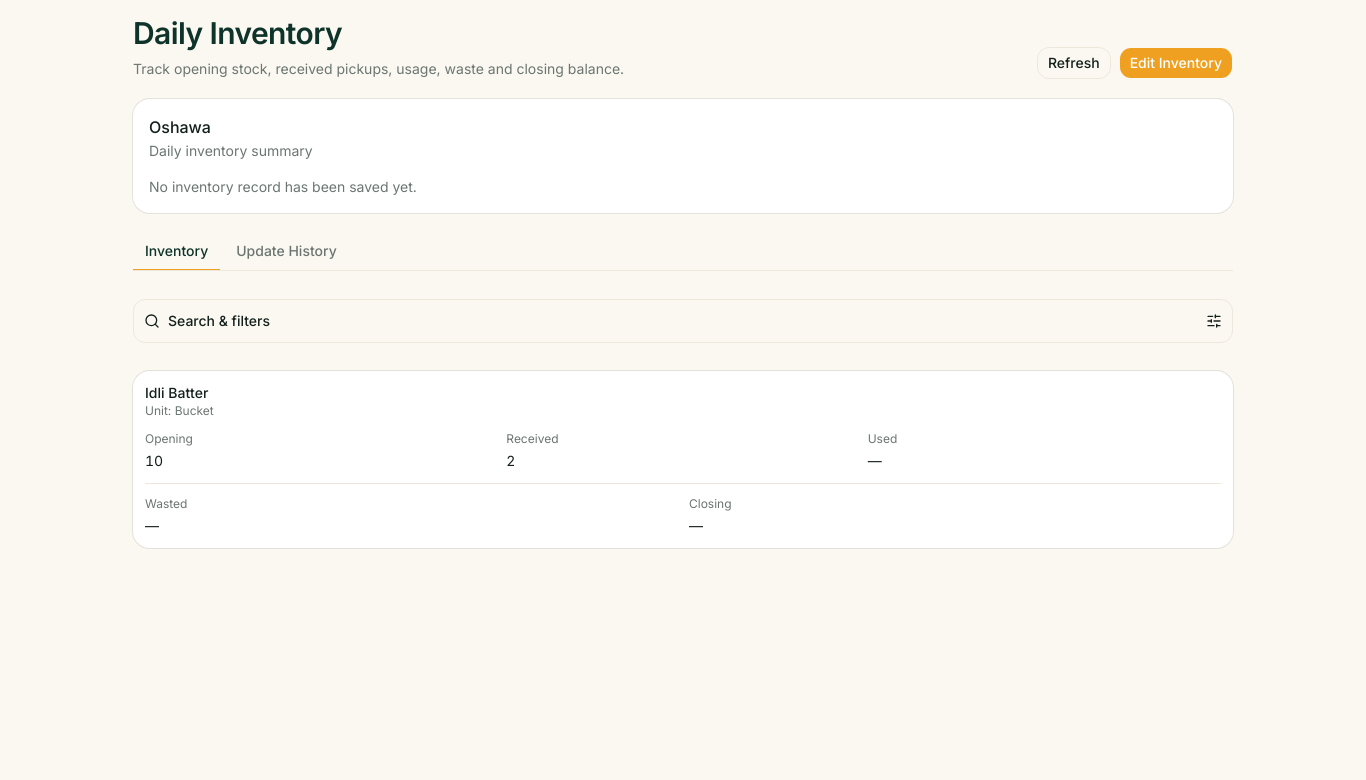
Test: tablet inventory uses cards and retains the bottom save controls
Check: the heading "Idli Batter" is shown, box [145,382,214,402]
Click the button "Edit Inventory" at (1176, 62), box [1119,46,1233,78]
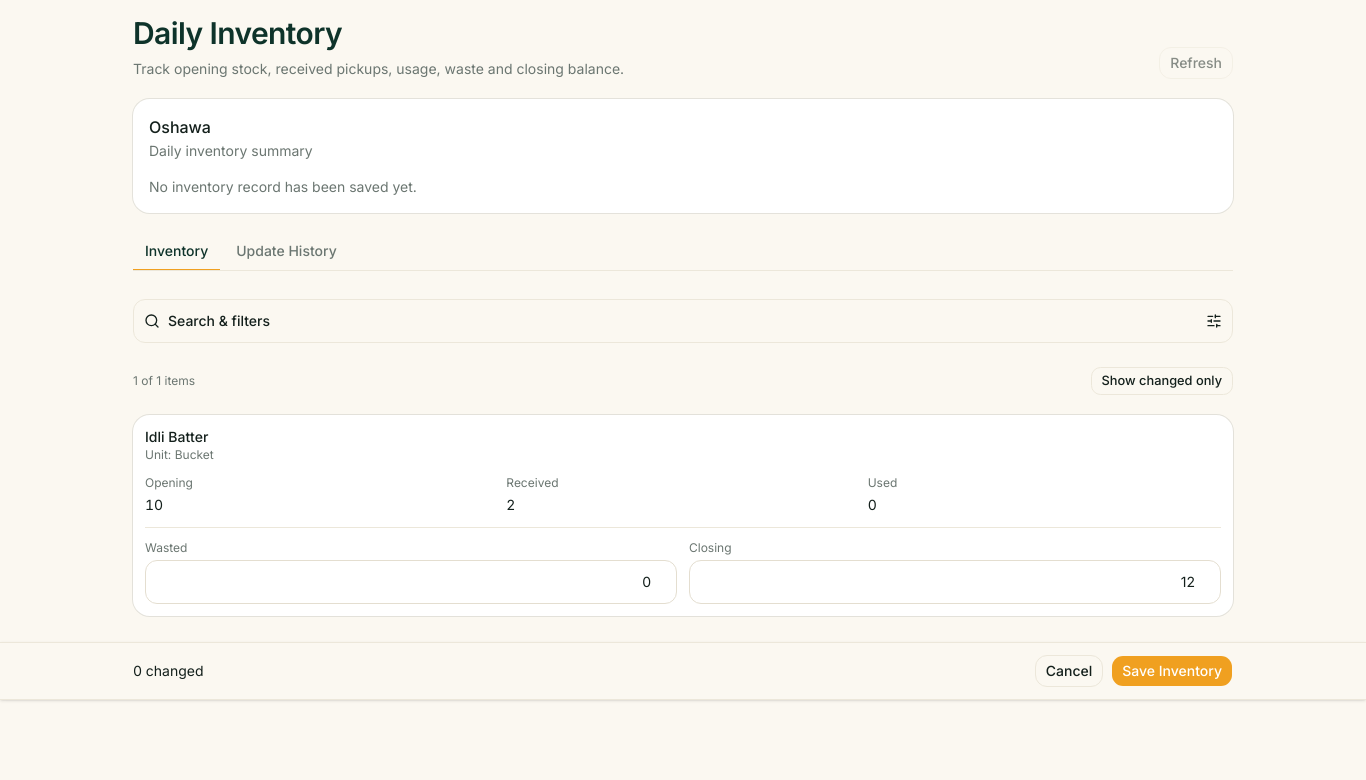
Check: the button "Save Inventory" is shown, box [1111,655,1233,687]
Check: the button "Show changed only" is shown, box [1091,366,1233,394]
